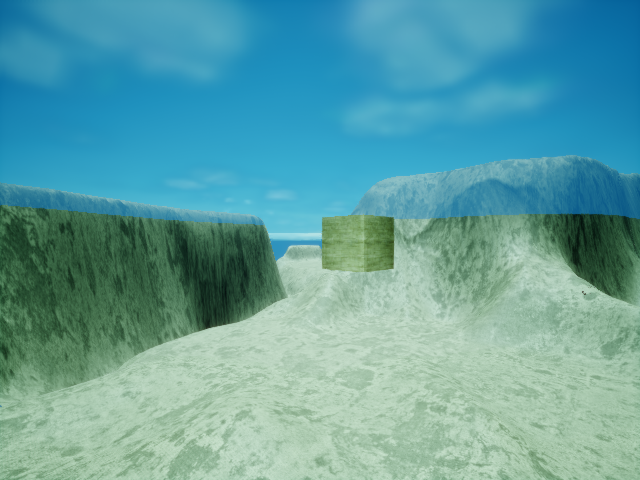Cube: (313, 207, 399, 278)
